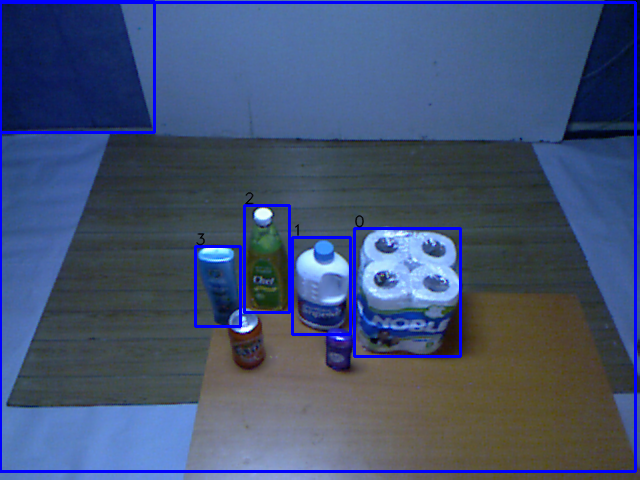aceite: (238, 205, 293, 314)
balsamo: (195, 242, 249, 335)
cloro: (291, 236, 354, 335)
confort: (351, 224, 466, 360)
desodorante: (319, 326, 356, 375)
lata: (224, 305, 271, 374)
